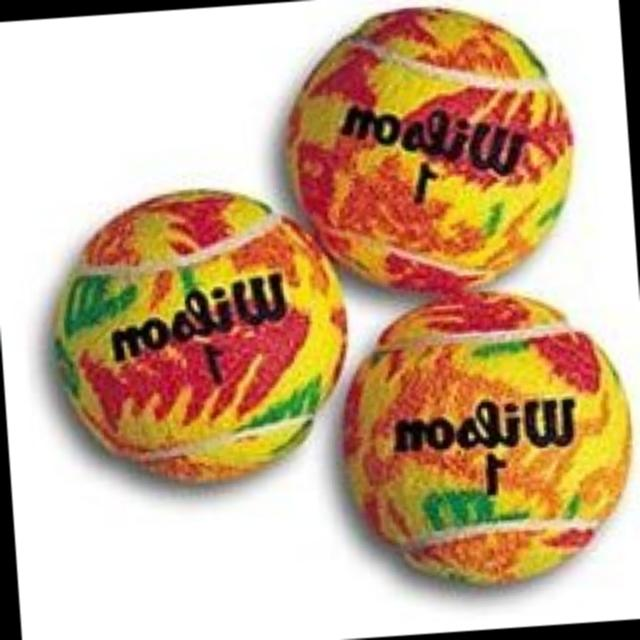Tennis Ball: (49, 189, 348, 488), (339, 293, 633, 590), (283, 9, 575, 292)
